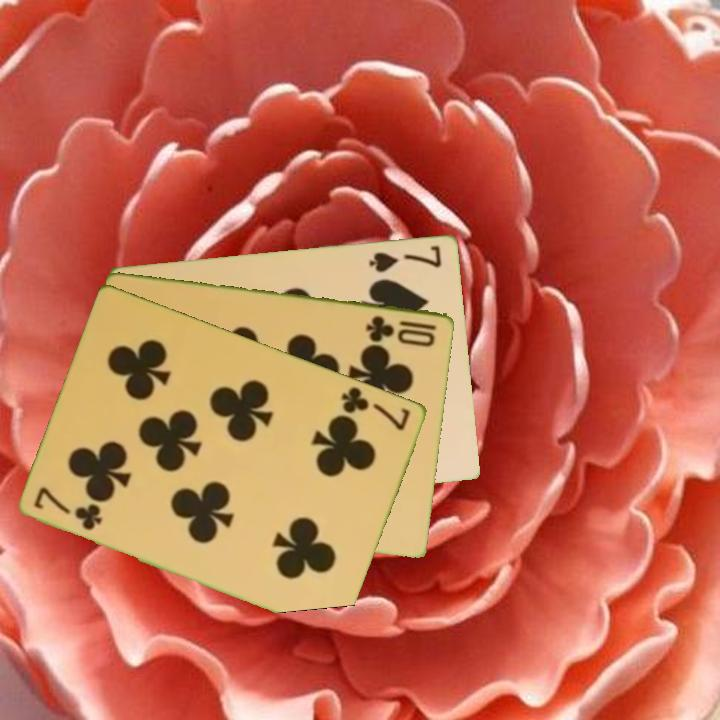10c: (363, 311, 440, 349)
7c: (338, 383, 414, 433), (30, 483, 106, 533)
7s: (366, 241, 445, 275)
